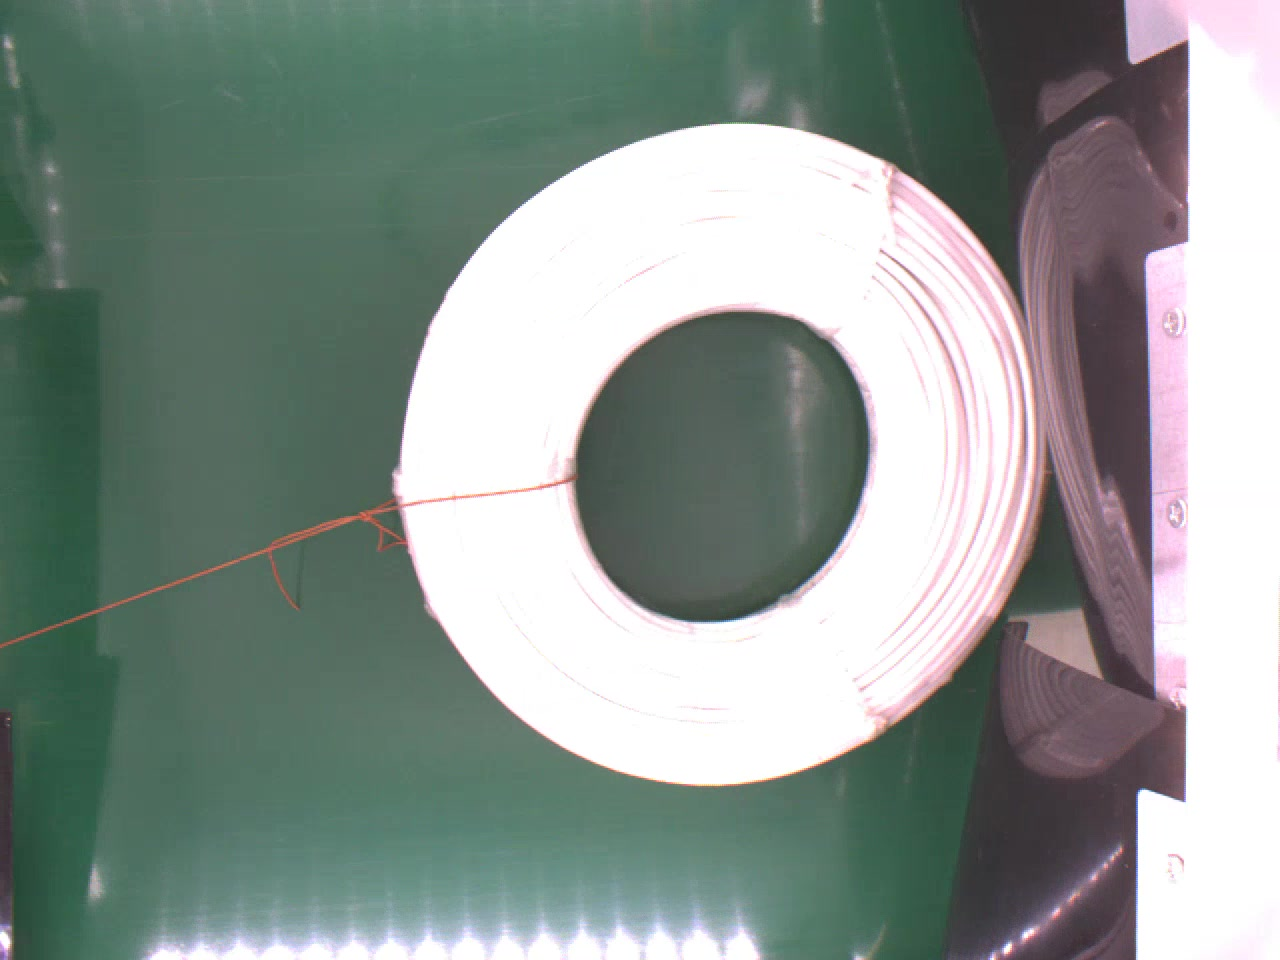white: (392, 111, 1055, 789)
